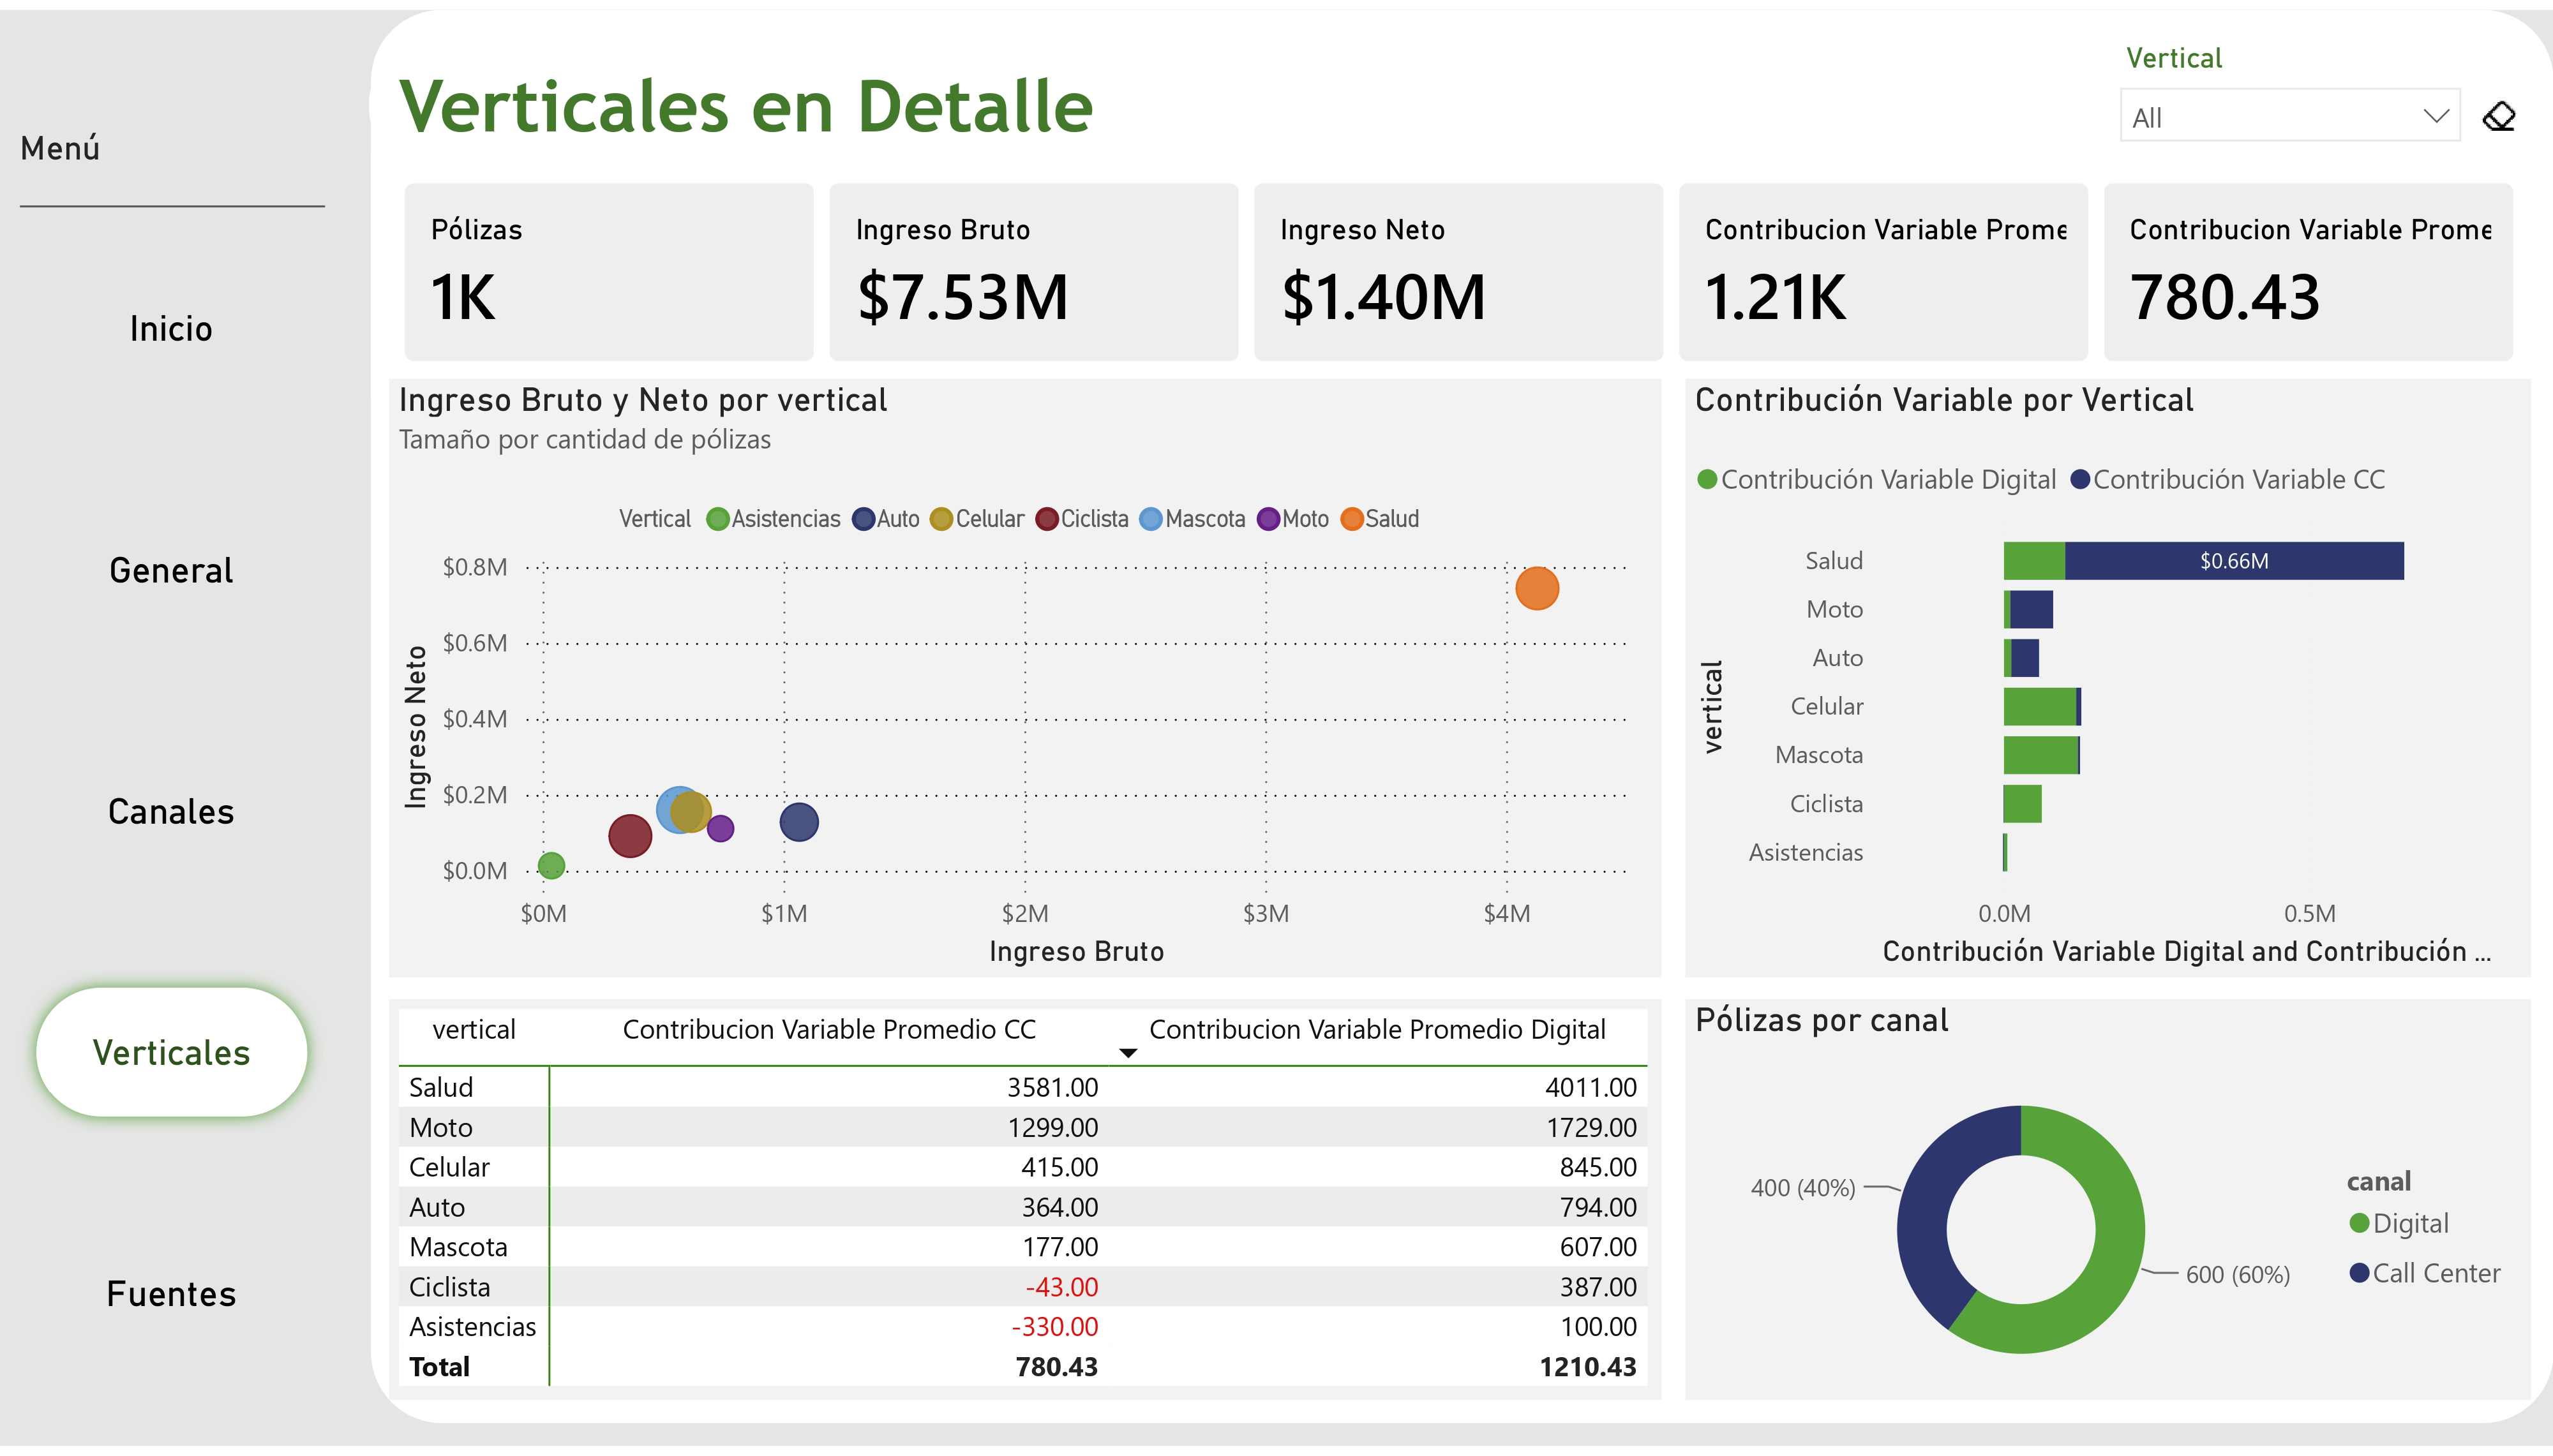

The dashboard page shown, as its layout file describes it:
{"tool":"powerbi","page":{"name":"Verticales","canvas":[1280,720],"ordinal":3},"visuals":[{"type":"pageNavigator","title":"Menú","box":[10,58.6,152.9,627.1],"z":0},{"type":"shape","box":[186.2,0,1094.3,708.6],"z":1000},{"type":"textbox","title":"Verticales en Detalle","box":[185.3,17.4,1083.5,62.2],"z":2000},{"type":"cardVisual","fields":{"Data":["Sum(Ventas_Canal.cantidad)","Ventas_Canal.Ingreso Bruto","Ventas_Canal.Ingreso Neto","Verticales.Contribucion Variable CC","Verticales.Contribucion Variable CC1"]},"box":[186.2,70,1093.8,123.8],"z":3000},{"type":"slicer","fields":{"Values":["Verticales.vertical"]},"box":[1052.5,11.2,191.2,58.8],"z":4000},{"type":"scatterChart","title":"Ingreso Bruto y Neto por vertical","fields":{"X":["Ventas_Canal.Ingreso Bruto"],"Y":["Ventas_Canal.Ingreso Neto"],"Category":["Verticales.vertical"],"Series":["Verticales.vertical"],"Size":["Sum(Ventas_Canal.cantidad)"]},"box":[195,185,637.5,300],"z":5000},{"type":"pivotTable","fields":{"Rows":["Verticales.vertical"],"Values":["Verticales.Contribucion Variable Promedio CC","Verticales.Contribucion Variable Promedio Digital"]},"box":[195,496.2,637.5,201.2],"z":6000},{"type":"donutChart","title":"Pólizas por canal","fields":{"Y":["Sum(Ventas_Canal.cantidad)"],"Category":["Canales.canal"]},"box":[845,496.2,423.8,201.2],"z":7000},{"type":"barChart","title":"Contribución Variable por Vertical","fields":{"Category":["Verticales.vertical"],"Y":["Verticales.Contribucion Variable Digital por Vertical","Verticales.Contribucion Variable CC Por Vertical"]},"box":[845,185,423.8,300],"z":8000},{"type":"image","box":[1244,41.1,17.9,23.6],"z":9000}]}

Visuals, with their boxes in screenshot pixels (x1, y1, x2, y2), scaled from the page's 1280x720 canvas onto the 2553x1456 screenshot:
"Menú" pageNavigator: bbox(20, 119, 325, 1386)
shape: bbox(371, 0, 2552, 1433)
"Verticales en Detalle" textbox: bbox(370, 35, 2531, 161)
cardVisual - Sum(Ventas_Canal.cantidad) x Ventas_Canal.Ingreso Bruto: bbox(371, 142, 2552, 392)
slicer - Verticales.vertical: bbox(2099, 22, 2481, 142)
"Ingreso Bruto y Neto por vertical" scatterChart: bbox(389, 374, 1661, 981)
pivotTable - Verticales.vertical x Verticales.Contribucion Variable Promedio CC: bbox(389, 1004, 1661, 1410)
"Pólizas por canal" donutChart: bbox(1686, 1004, 2531, 1410)
"Contribución Variable por Vertical" barChart: bbox(1686, 374, 2531, 981)
image: bbox(2482, 83, 2517, 131)
